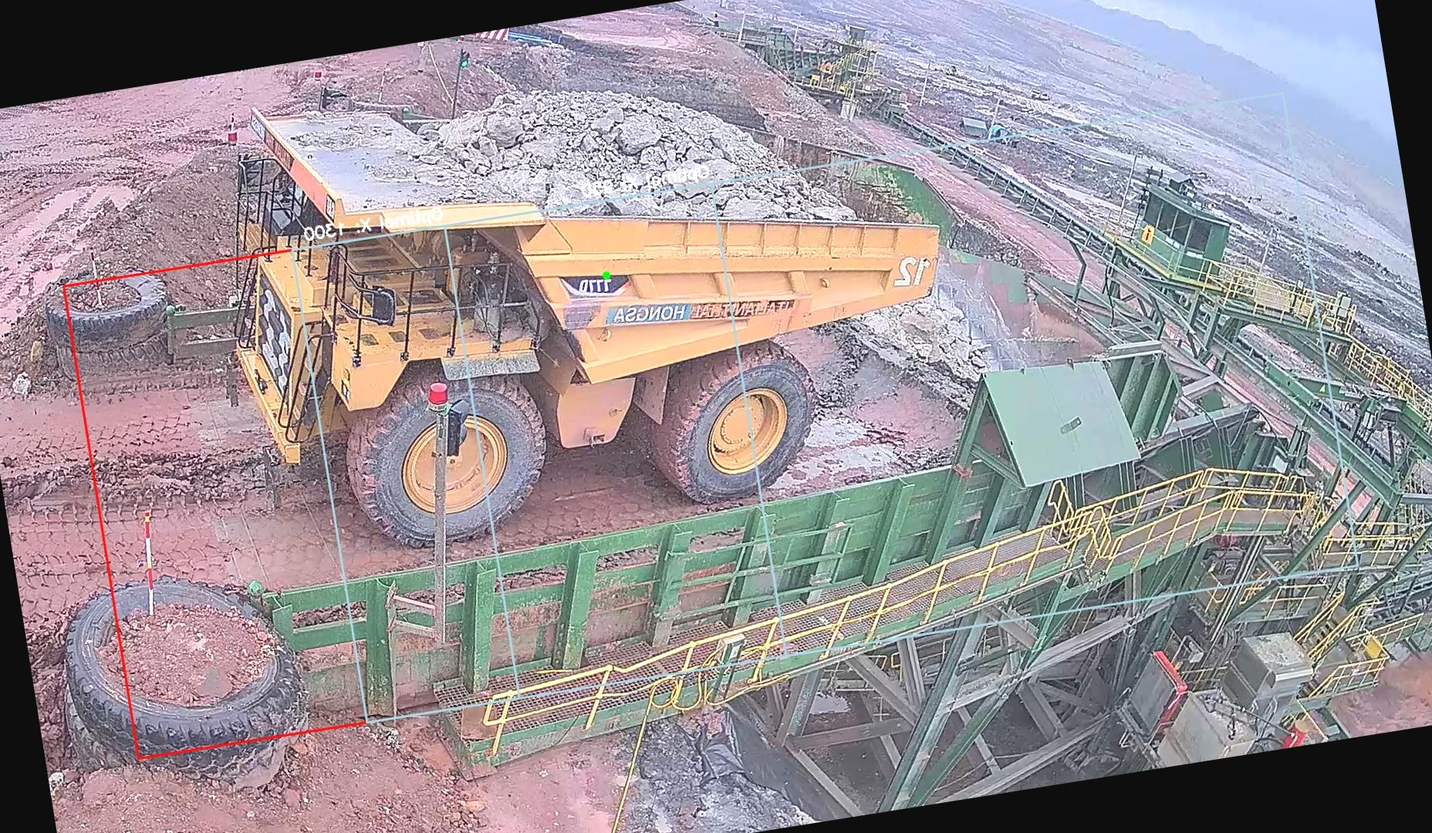company: (592, 268, 810, 349)
full_load: (433, 46, 793, 266)
mining_truck: (167, 4, 981, 578)
tail_number: (870, 241, 943, 302)
truck_size: (553, 258, 635, 309)
